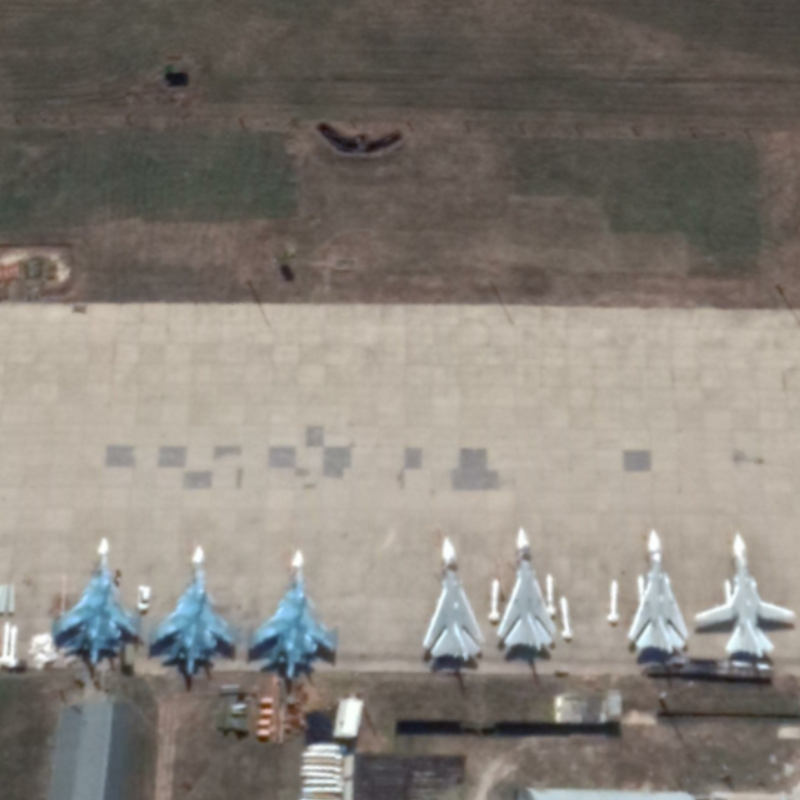A19: (244, 547, 343, 680), (146, 542, 244, 675), (49, 534, 144, 666)
A20: (692, 528, 798, 660), (624, 526, 691, 657), (420, 534, 486, 664), (494, 525, 560, 653)
